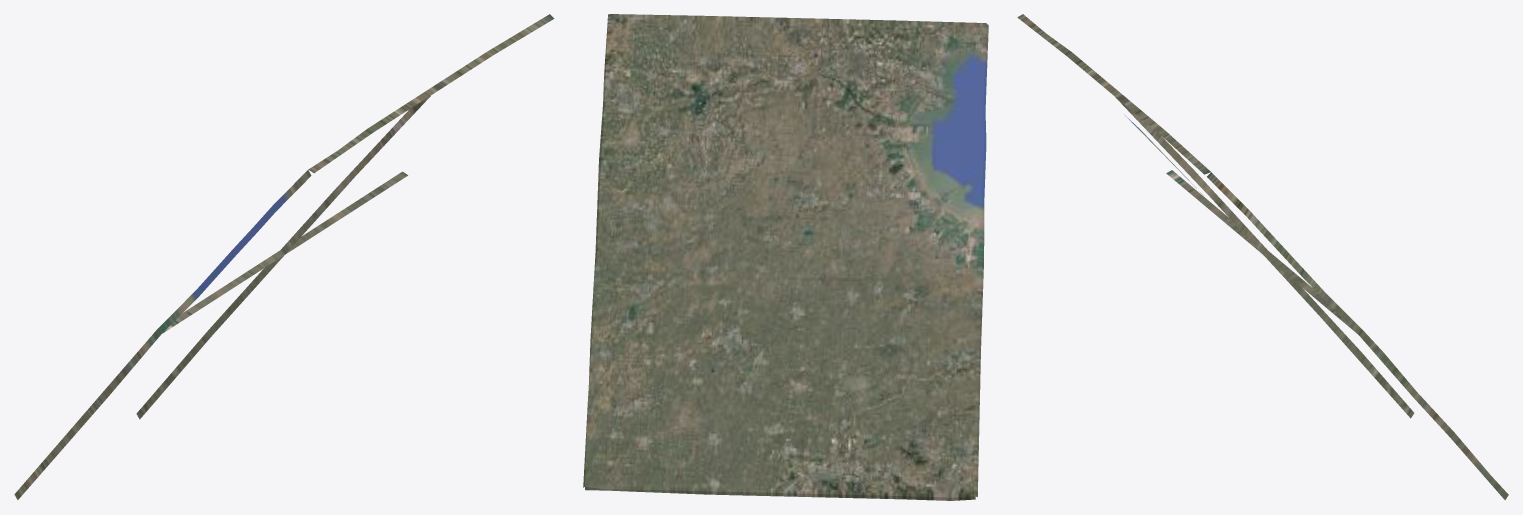
3 renders of one model, left to right at view 1: azimuth 30°, elevation 25°; view 2: azimuth 150°, elevation 25°; view 3: azimuth 270°, elevation 25°, orthographic. The views are drawn at different scales.
Size of the model in its own units: 309378 by 251539 by 286672.
Materials: 1 (1 with a texture image).
